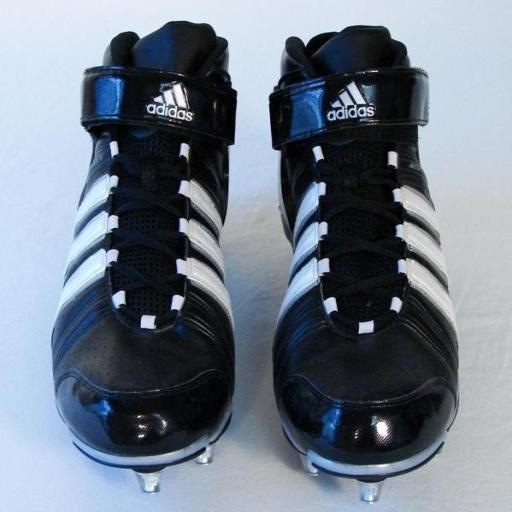shoe: (270, 26, 458, 502), (52, 22, 236, 492)
